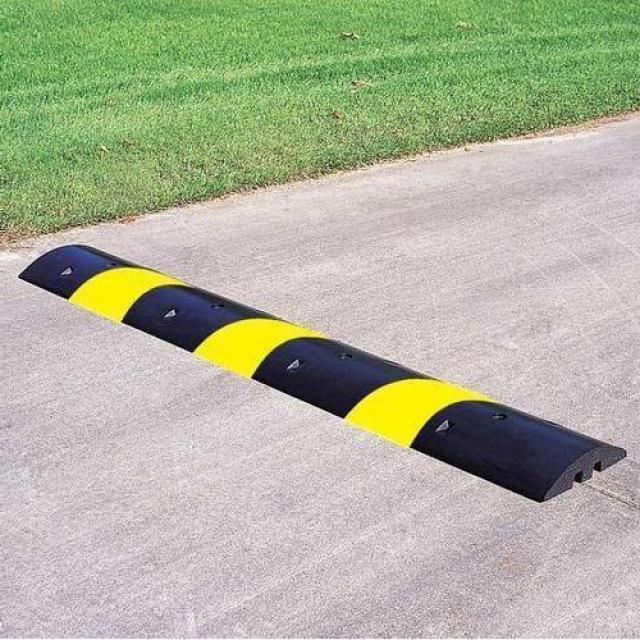Marked Bump: (45, 232, 618, 522)
